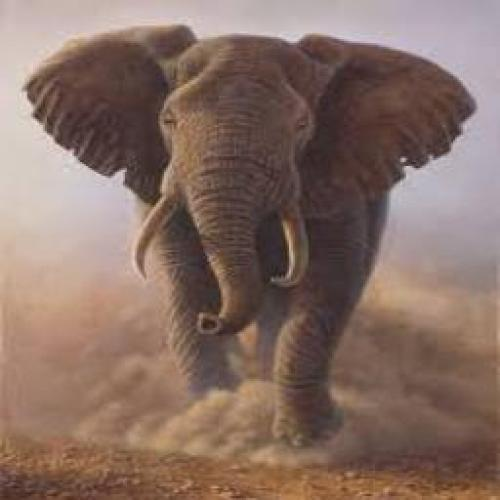african_elephant-endangered: (21, 22, 479, 447)
